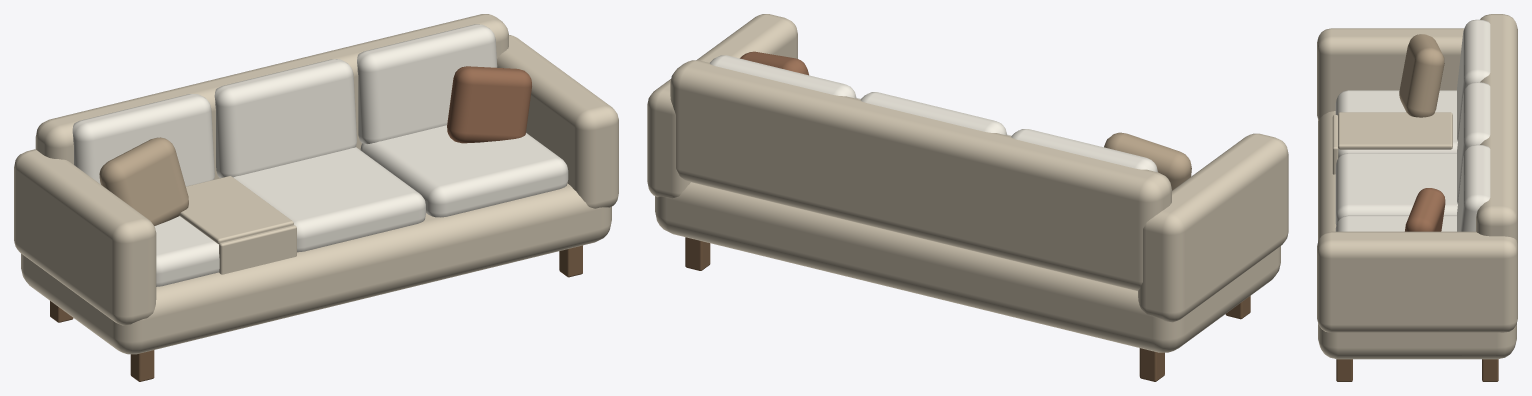
Rendered from sofa.glb.
3 views of the same model, side by side, from view 1: azimuth 30°, elevation 25°; view 2: azimuth 150°, elevation 25°; view 3: azimuth 270°, elevation 25° (orthographic). The views are drawn at different scales.
Parts seen in each view (by area): view 1: studio/linen, studio/cream, studio/rust, studio/sand, studio/oakDark; view 2: studio/linen, studio/cream, studio/sand, studio/oakDark, studio/rust; view 3: studio/linen, studio/cream, studio/sand, studio/rust, studio/oakDark.
Part boxes in pixels (x1,y1,x2,y2): studio/linen: (14, 14, 618, 354); studio/cream: (72, 24, 568, 286); studio/rust: (447, 66, 531, 143); studio/sand: (99, 137, 188, 225); studio/oakDark: (50, 245, 582, 381); studio/linen: (647, 14, 1288, 352); studio/cream: (710, 55, 1157, 172); studio/sand: (1104, 132, 1191, 190); studio/oakDark: (685, 237, 1250, 381); studio/rust: (740, 51, 808, 75); studio/linen: (1317, 14, 1517, 359); studio/cream: (1335, 19, 1490, 231); studio/sand: (1399, 34, 1444, 117); studio/rust: (1405, 188, 1445, 231); studio/oakDark: (1336, 359, 1498, 381).
Size of the model in its own units: 2.38 by 0.8852 by 0.91.
